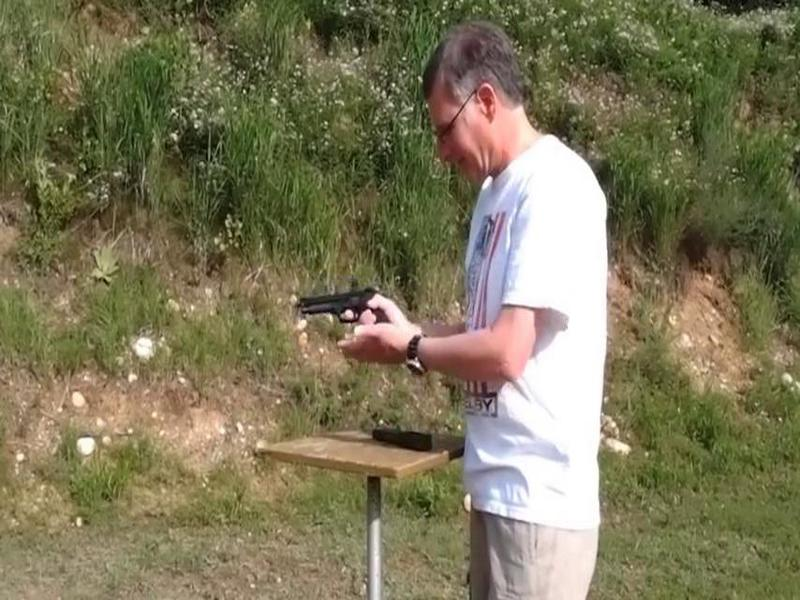Pistola: (286, 275, 403, 358)
